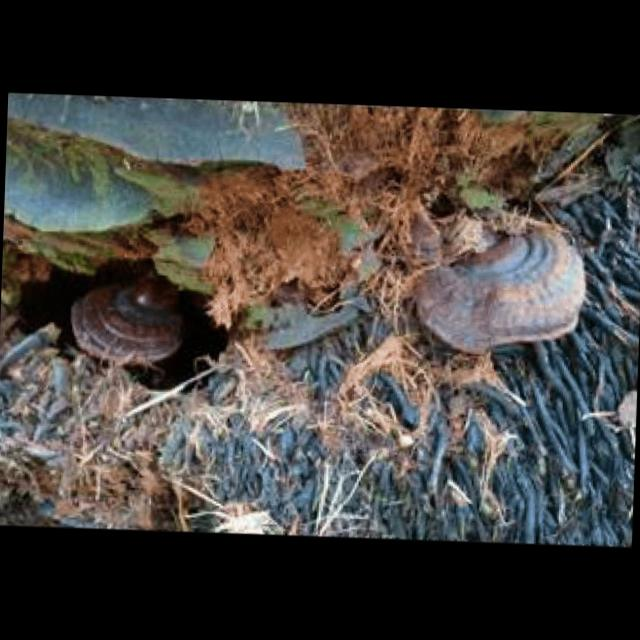ganoderma: (411, 215, 590, 361), (68, 271, 192, 370)
